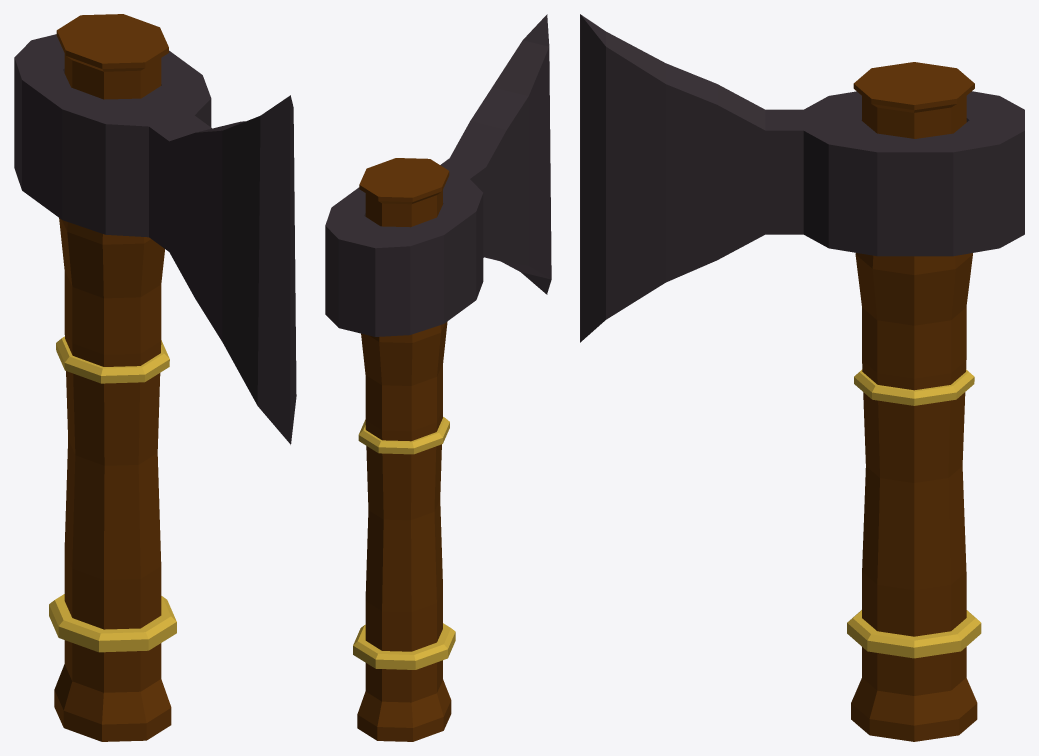
File: AXEtest.fbx
3 renders of one model, left to right at view 1: azimuth 30°, elevation 25°; view 2: azimuth 150°, elevation 25°; view 3: azimuth 270°, elevation 25°, orthographic. The views are drawn at different scales.
Parts seen in each view (by area): view 1: Cube; view 2: Cube; view 3: Cube.
Boxes of the visible parts, left/top/right/bottom form: Cube: left=14, top=14, right=296, bottom=741; Cube: left=325, top=14, right=551, bottom=741; Cube: left=580, top=14, right=1024, bottom=741.
Bounding box in the file's own units: 266 × 775 × 1357.
